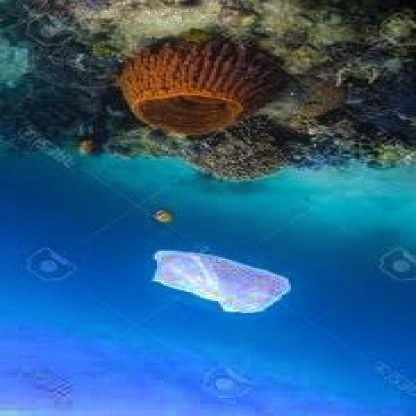pbag: (150, 248, 293, 315)
